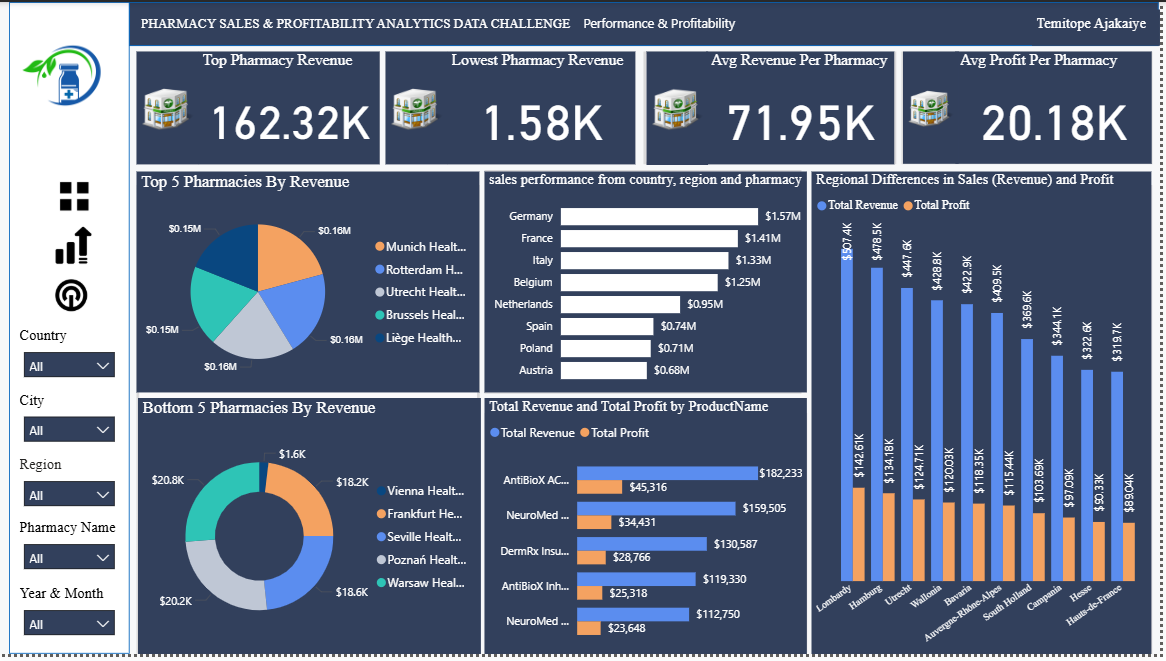

What the dashboard file says about the page in this screenshot:
{"tool":"powerbi","page":{"name":"Performance & Profitability","canvas":[1280,720],"ordinal":1},"visuals":[{"type":"shape","box":[9.7,0,133.3,719.8],"z":0},{"type":"shape","box":[143,0,1137,48.6],"z":1000},{"type":"shape","box":[150.8,55.4,268.4,124.5],"z":2000},{"type":"shape","box":[426,55.4,276,124.5],"z":3000},{"type":"shape","box":[710,55.4,279.1,124.5],"z":4000},{"type":"shape","box":[996,55.4,277.2,124.5],"z":5000},{"type":"shape","box":[150.5,201.3,379,517.8],"z":6000},{"type":"shape","box":[900.7,201.3,371.6,518.4],"z":7000},{"type":"textbox","box":[150.8,8.8,499,39.9],"z":8000},{"type":"textbox","box":[640,8.8,195.5,39.9],"z":9000},{"type":"card","title":"Top Pharmacy Revenue","fields":{"Values":["DimDate.Top Pharmacy Revenue"]},"box":[218.8,55.4,200.4,124.5],"z":10000},{"type":"card","title":"Lowest Pharmacy Revenue","fields":{"Values":["DimDate.Lowest Pharmacy Revenue"]},"box":[494.1,55.4,208.1,124.5],"z":11000},{"type":"card","title":"Avg Revenue Per Pharmacy","fields":{"Values":["DimDate.Avg Revenue per Pharmacy"]},"box":[780.1,55.4,207.2,124.5],"z":12000},{"type":"card","title":"Avg Profit Per Pharmacy","fields":{"Values":["DimDate.Avg Profit per Pharmacy"]},"box":[1055.2,54.7,217,124.2],"z":13000},{"type":"image","box":[150.8,55.4,68.1,124.5],"z":14000},{"type":"image","box":[997.2,54.7,61.3,124.2],"z":15000},{"type":"image","box":[713.9,54.7,67.9,125],"z":16000},{"type":"image","box":[426,55.4,68.1,124.5],"z":17000},{"type":"shape","box":[535,454.3,356.4,264.8],"z":18000},{"type":"image","box":[6.6,0,135.8,165.6],"z":19000},{"type":"clusteredColumnChart","title":"Regional Differences in Sales (Revenue) and Profit","fields":{"Category":["DimPharmacy.Region"],"Y":["FactSales.Total Revenue","FactSales.Total Profit"]},"box":[896.8,186.7,375.4,533],"z":20000},{"type":"shape","box":[535,185.8,350.2,247.1],"z":21000},{"type":"donutChart","title":"Bottom 5 Pharmacies By Revenue","fields":{"Category":["DimPharmacy.PharmacyName"],"Y":["FactSales.Total Revenue"]},"box":[151.7,436.7,378.4,284],"z":22000},{"type":"pieChart","title":"Top 5 Pharmacies By Revenue","fields":{"Category":["DimPharmacy.PharmacyName"],"Y":["FactSales.Total Revenue"]},"box":[150.8,186.7,378.4,244.1],"z":23000},{"type":"clusteredBarChart","title":"sales performance from country, region and pharmacy","fields":{"Category":["DimPharmacy.Country","DimPharmacy.Region","DimPharmacy.PharmacyName"],"Y":["FactSales.Total Revenue"]},"box":[535,186.7,356,244.1],"z":24000},{"type":"clusteredBarChart","fields":{"Category":["DimProduct.ProductName"],"Y":["FactSales.Total Revenue","FactSales.Total Profit"]},"box":[535,436.7,356,283],"z":25000},{"type":"slicer","title":"City","fields":{"Values":["DimPharmacy.City"]},"box":[16.3,430.7,119.7,59.8],"z":26000},{"type":"slicer","title":"Country","fields":{"Values":["DimPharmacy.Country"]},"box":[16.3,360,119.7,59.8],"z":27000},{"type":"slicer","title":"Year & Month","fields":{"Values":["DimDate.Year","DimDate.YearMonth"]},"box":[16.3,644.7,119.7,59.8],"z":28000},{"type":"slicer","title":"Pharmacy Name","fields":{"Values":["DimPharmacy.PharmacyName"]},"box":[16.3,572.2,119.7,59.8],"z":29000},{"type":"slicer","title":"Region","fields":{"Values":["DimPharmacy.Region"]},"box":[16.3,502.4,119.7,59.8],"z":30000},{"type":"textbox","box":[1138.9,9.1,141.5,39.9],"z":31000},{"type":"image","box":[54.7,187.2,54.7,54.7],"z":32000},{"type":"image","box":[53,241.8,54.7,54.7],"z":33000},{"type":"image","box":[51.4,296.5,54.7,54.7],"z":34000}]}

Visuals, with their boxes in screenshot pixels (x1, y1, x2, y2):
shape: <bbox>12, 3, 132, 650</bbox>
shape: <bbox>132, 3, 1153, 47</bbox>
shape: <bbox>139, 53, 380, 165</bbox>
shape: <bbox>386, 53, 634, 165</bbox>
shape: <bbox>641, 53, 892, 165</bbox>
shape: <bbox>898, 53, 1147, 165</bbox>
shape: <bbox>138, 184, 479, 649</bbox>
shape: <bbox>812, 184, 1146, 650</bbox>
textbox: <bbox>139, 11, 587, 47</bbox>
textbox: <bbox>578, 11, 754, 47</bbox>
"Top Pharmacy Revenue" card: <bbox>200, 53, 380, 165</bbox>
"Lowest Pharmacy Revenue" card: <bbox>447, 53, 634, 165</bbox>
"Avg Revenue Per Pharmacy" card: <bbox>704, 53, 890, 165</bbox>
"Avg Profit Per Pharmacy" card: <bbox>951, 52, 1146, 164</bbox>
image: <bbox>139, 53, 200, 165</bbox>
image: <bbox>899, 52, 954, 164</bbox>
image: <bbox>644, 52, 705, 164</bbox>
image: <bbox>386, 53, 447, 165</bbox>
shape: <bbox>484, 411, 804, 649</bbox>
image: <bbox>9, 3, 131, 152</bbox>
"Regional Differences in Sales (Revenue) and Profit" clusteredColumnChart: <bbox>809, 171, 1146, 650</bbox>
shape: <bbox>484, 170, 798, 392</bbox>
"Bottom 5 Pharmacies By Revenue" donutChart: <bbox>139, 395, 479, 650</bbox>
"Top 5 Pharmacies By Revenue" pieChart: <bbox>139, 171, 478, 390</bbox>
"sales performance from country, region and pharmacy" clusteredBarChart: <bbox>484, 171, 803, 390</bbox>
clusteredBarChart - DimProduct.ProductName x FactSales.Total Revenue: <bbox>484, 395, 803, 650</bbox>
"City" slicer: <bbox>18, 390, 125, 444</bbox>
"Country" slicer: <bbox>18, 326, 125, 380</bbox>
"Year & Month" slicer: <bbox>18, 582, 125, 636</bbox>
"Pharmacy Name" slicer: <bbox>18, 517, 125, 571</bbox>
"Region" slicer: <bbox>18, 454, 125, 508</bbox>
textbox: <bbox>1026, 11, 1153, 47</bbox>
image: <bbox>52, 171, 101, 220</bbox>
image: <bbox>51, 220, 100, 269</bbox>
image: <bbox>49, 269, 98, 319</bbox>
